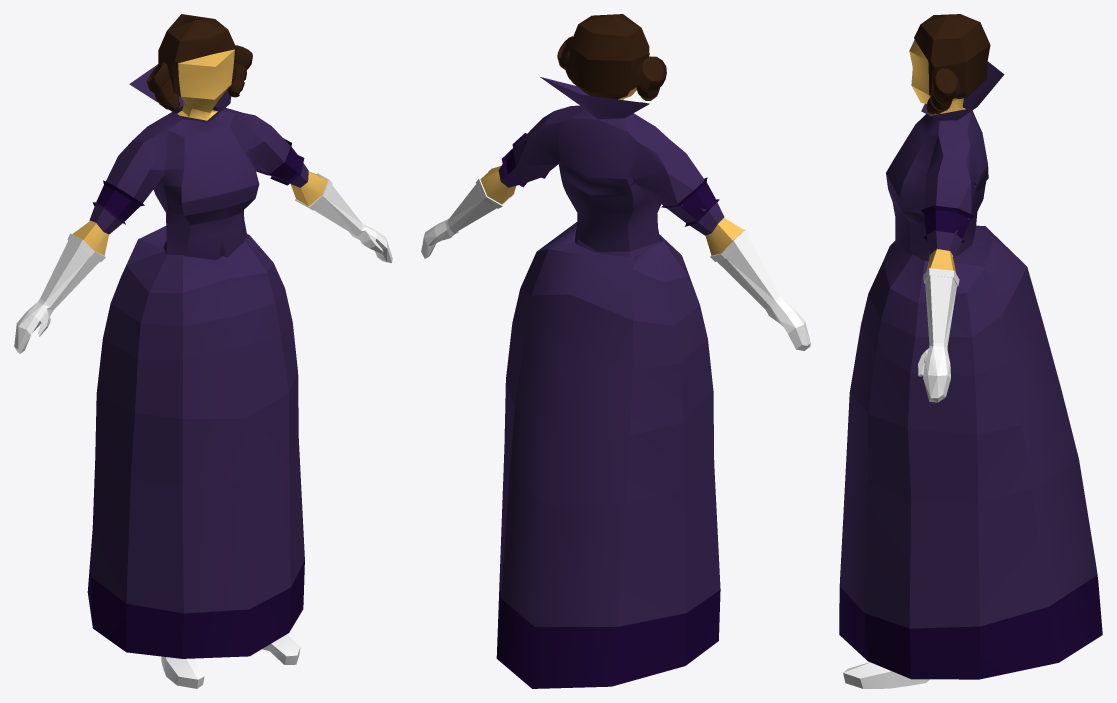
The model's file is base_lovelace.FBX.
3 renders of one model, left to right at view 1: azimuth 30°, elevation 25°; view 2: azimuth 150°, elevation 25°; view 3: azimuth 270°, elevation 25°, orthographic. The views are drawn at different scales.
Parts seen in each view (by area): view 1: Object003; view 2: Object003; view 3: Object003.
Part boxes in pixels (box(x1,y1,x2,y2)): Object003: box(14, 14, 392, 688); Object003: box(421, 14, 810, 688); Object003: box(839, 14, 1102, 688).
Size of the model in its own units: 7.54 by 11.97 by 4.44.
